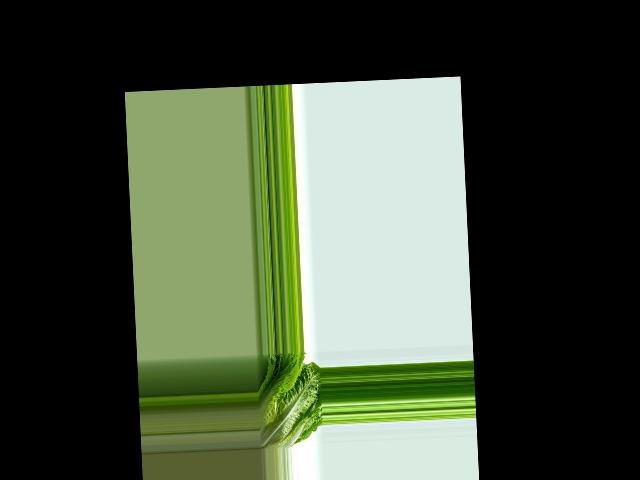lettuce: (256, 350, 323, 449)
